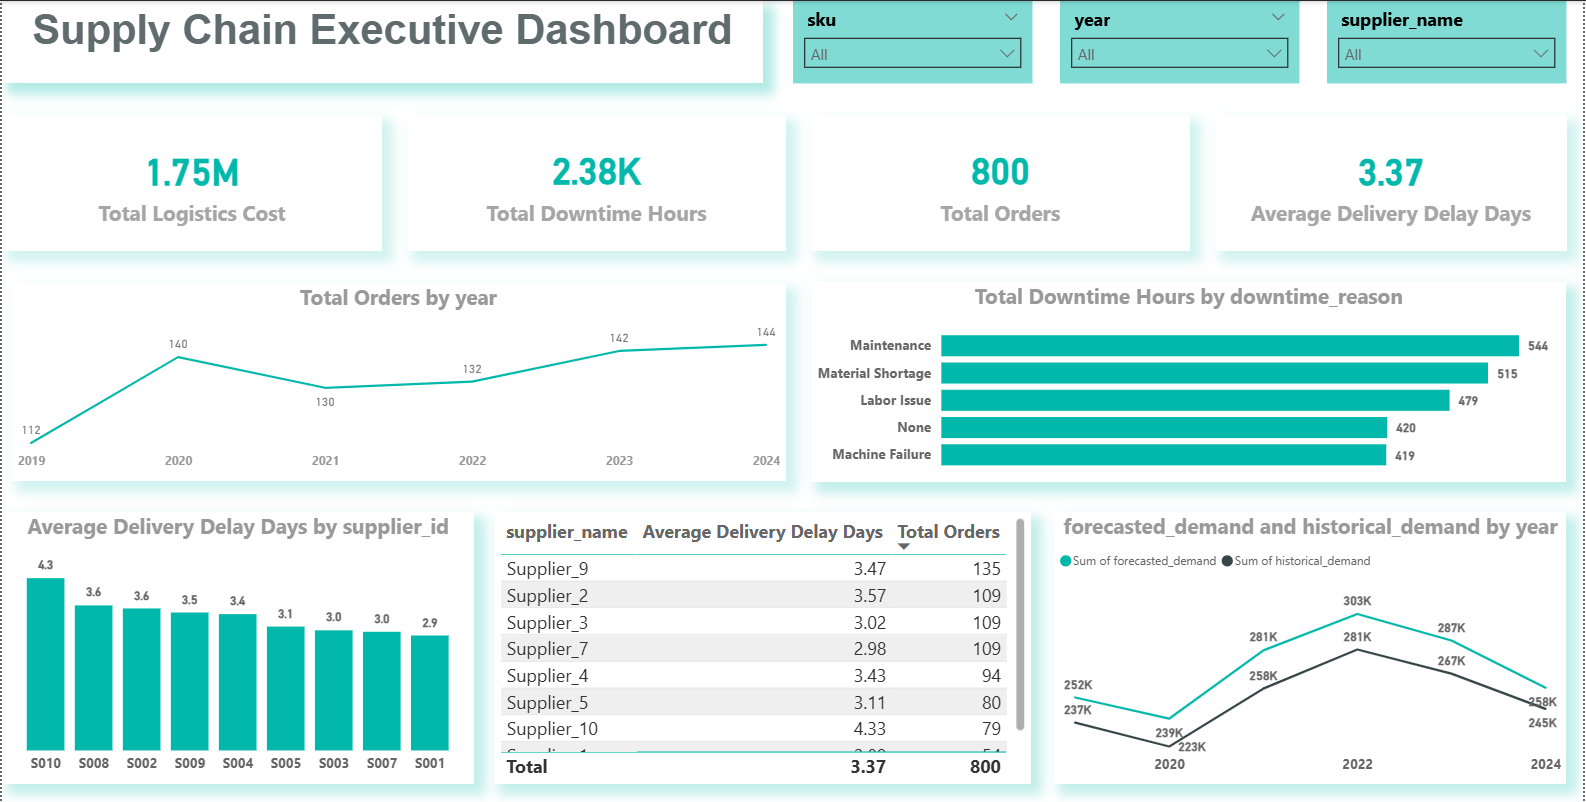

The page's visual inventory and layout, read from the dashboard file:
{"tool":"powerbi","page":{"name":"Executive Dashboard","canvas":[1420,720],"ordinal":0},"visuals":[{"type":"textbox","box":[0,0,683,74.3],"z":0},{"type":"slicer","fields":{"Values":["dim_product.sku"]},"box":[710.2,0,215,74.3],"z":1000},{"type":"slicer","fields":{"Values":["dim_calendar.year"]},"box":[950,0,215,74.3],"z":2000},{"type":"slicer","fields":{"Values":["dim_suppliers.supplier_name"]},"box":[1189.9,0,214.7,74.4],"z":3000},{"type":"card","fields":{"Values":["_measures.Total Logistics Cost"]},"box":[0,102.4,341,122.1],"z":4000},{"type":"card","fields":{"Values":["_measures.Total Downtime Hours"]},"box":[363.6,102.5,340,121.5],"z":5000},{"type":"card","fields":{"Values":["_measures.Total Orders"]},"box":[726.2,102.5,340,121.5],"z":6000},{"type":"card","fields":{"Values":["_measures.Average Delivery Delay Days"]},"box":[1088.9,102.4,315.7,122.1],"z":7000},{"type":"lineChart","fields":{"Y":["_measures.Total Orders"],"Category":["dim_calendar.year"]},"box":[7.8,253.5,695.8,178.1],"z":8000},{"type":"clusteredBarChart","fields":{"Category":["fact_production.downtime_reason"],"Y":["_measures.Total Downtime Hours"]},"box":[726.1,252.5,678.2,180.1],"z":9000},{"type":"clusteredColumnChart","fields":{"Y":["_measures.Average Delivery Delay Days"],"Category":["dim_suppliers.supplier_id"]},"box":[0,458.6,423.9,244.1],"z":10000},{"type":"tableEx","fields":{"Values":["dim_suppliers.supplier_name","_measures.Average Delivery Delay Days","_measures.Total Orders"]},"box":[441.9,458.6,481.7,244.1],"z":11000},{"type":"lineChart","title":"forecasted_demand and historical_demand by year","fields":{"Y":["Sum(fact_sales_forecast.forecasted_demand)","Sum(fact_sales_forecast.historical_demand)"],"Category":["dim_calendar.year"]},"box":[944.3,458.8,460.2,244.2],"z":12000}]}

Visuals, with their boxes in screenshot pixels (x1, y1, x2, y2), scaled from the page's 1420x720 canvas onto the 1586x802 screenshot:
textbox: <box>0,0,763,83</box>
slicer - dim_product.sku: <box>793,0,1033,83</box>
slicer - dim_calendar.year: <box>1061,0,1301,83</box>
slicer - dim_suppliers.supplier_name: <box>1329,0,1569,83</box>
card - _measures.Total Logistics Cost: <box>0,114,381,250</box>
card - _measures.Total Downtime Hours: <box>406,114,786,250</box>
card - _measures.Total Orders: <box>811,114,1191,250</box>
card - _measures.Average Delivery Delay Days: <box>1216,114,1569,250</box>
lineChart - _measures.Total Orders x dim_calendar.year: <box>9,282,786,481</box>
clusteredBarChart - fact_production.downtime_reason x _measures.Total Downtime Hours: <box>811,281,1568,482</box>
clusteredColumnChart - _measures.Average Delivery Delay Days x dim_suppliers.supplier_id: <box>0,511,473,783</box>
tableEx - dim_suppliers.supplier_name x _measures.Average Delivery Delay Days: <box>494,511,1032,783</box>
"forecasted_demand and historical_demand by year" lineChart: <box>1055,511,1569,783</box>
